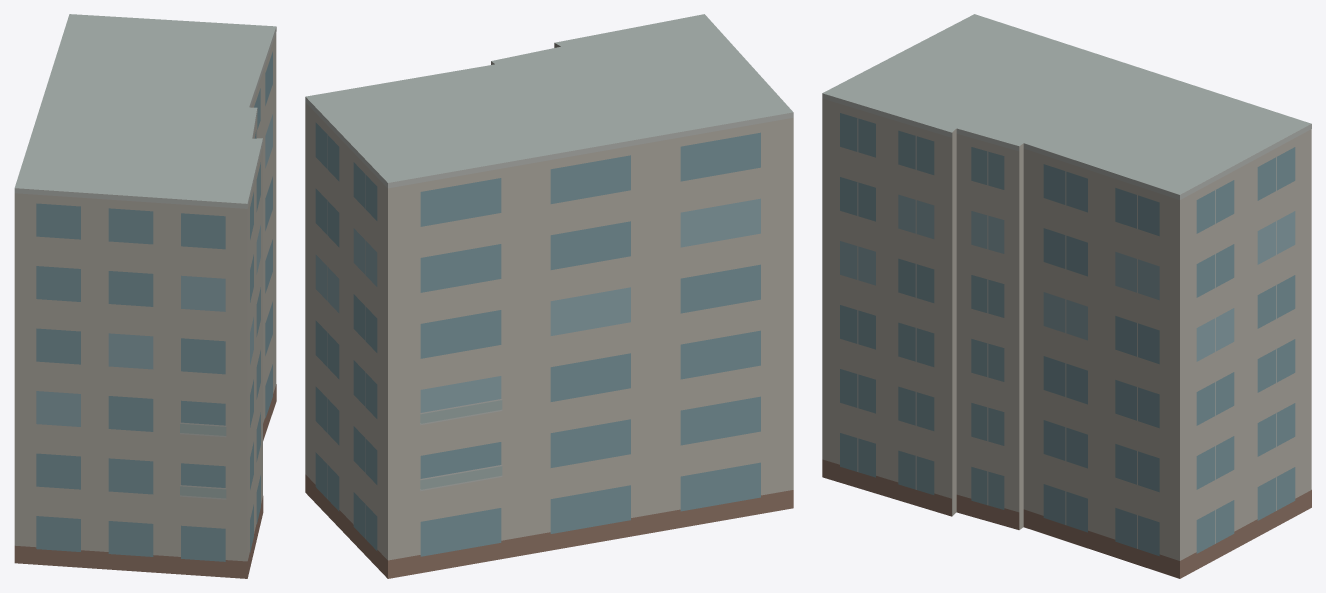
The model's file is survey-upis-33006799.glb.
3 views of the same model, side by side, from view 1: azimuth 30°, elevation 25°; view 2: azimuth 150°, elevation 25°; view 3: azimuth 270°, elevation 25° (orthographic). The views are drawn at different scales.
Visible parts, largest first — view 1: survey-upis-33006799.tmp; view 2: survey-upis-33006799.tmp; view 3: survey-upis-33006799.tmp.
Boxes of the visible parts, box(x1,y1,x2,y2) form: survey-upis-33006799.tmp: box(14, 14, 276, 578); survey-upis-33006799.tmp: box(305, 14, 793, 578); survey-upis-33006799.tmp: box(822, 14, 1311, 578).
Bounding box in the file's own units: 18.1 × 17.9 × 20.69.
